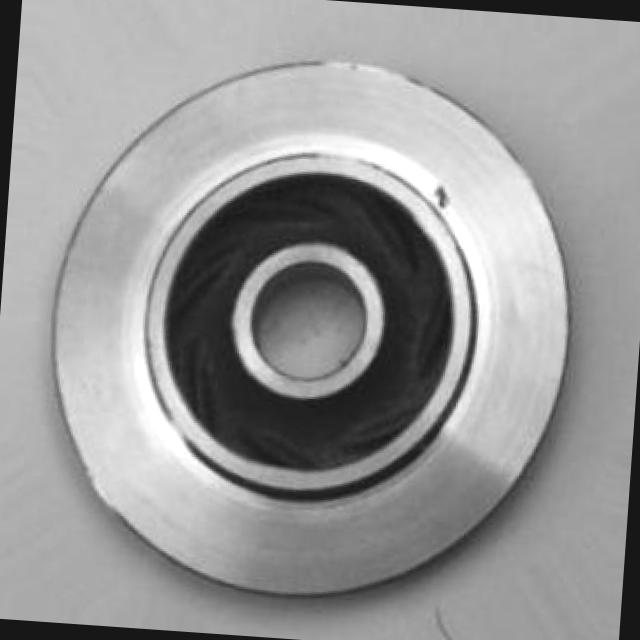Defect: (430, 174, 460, 217)
